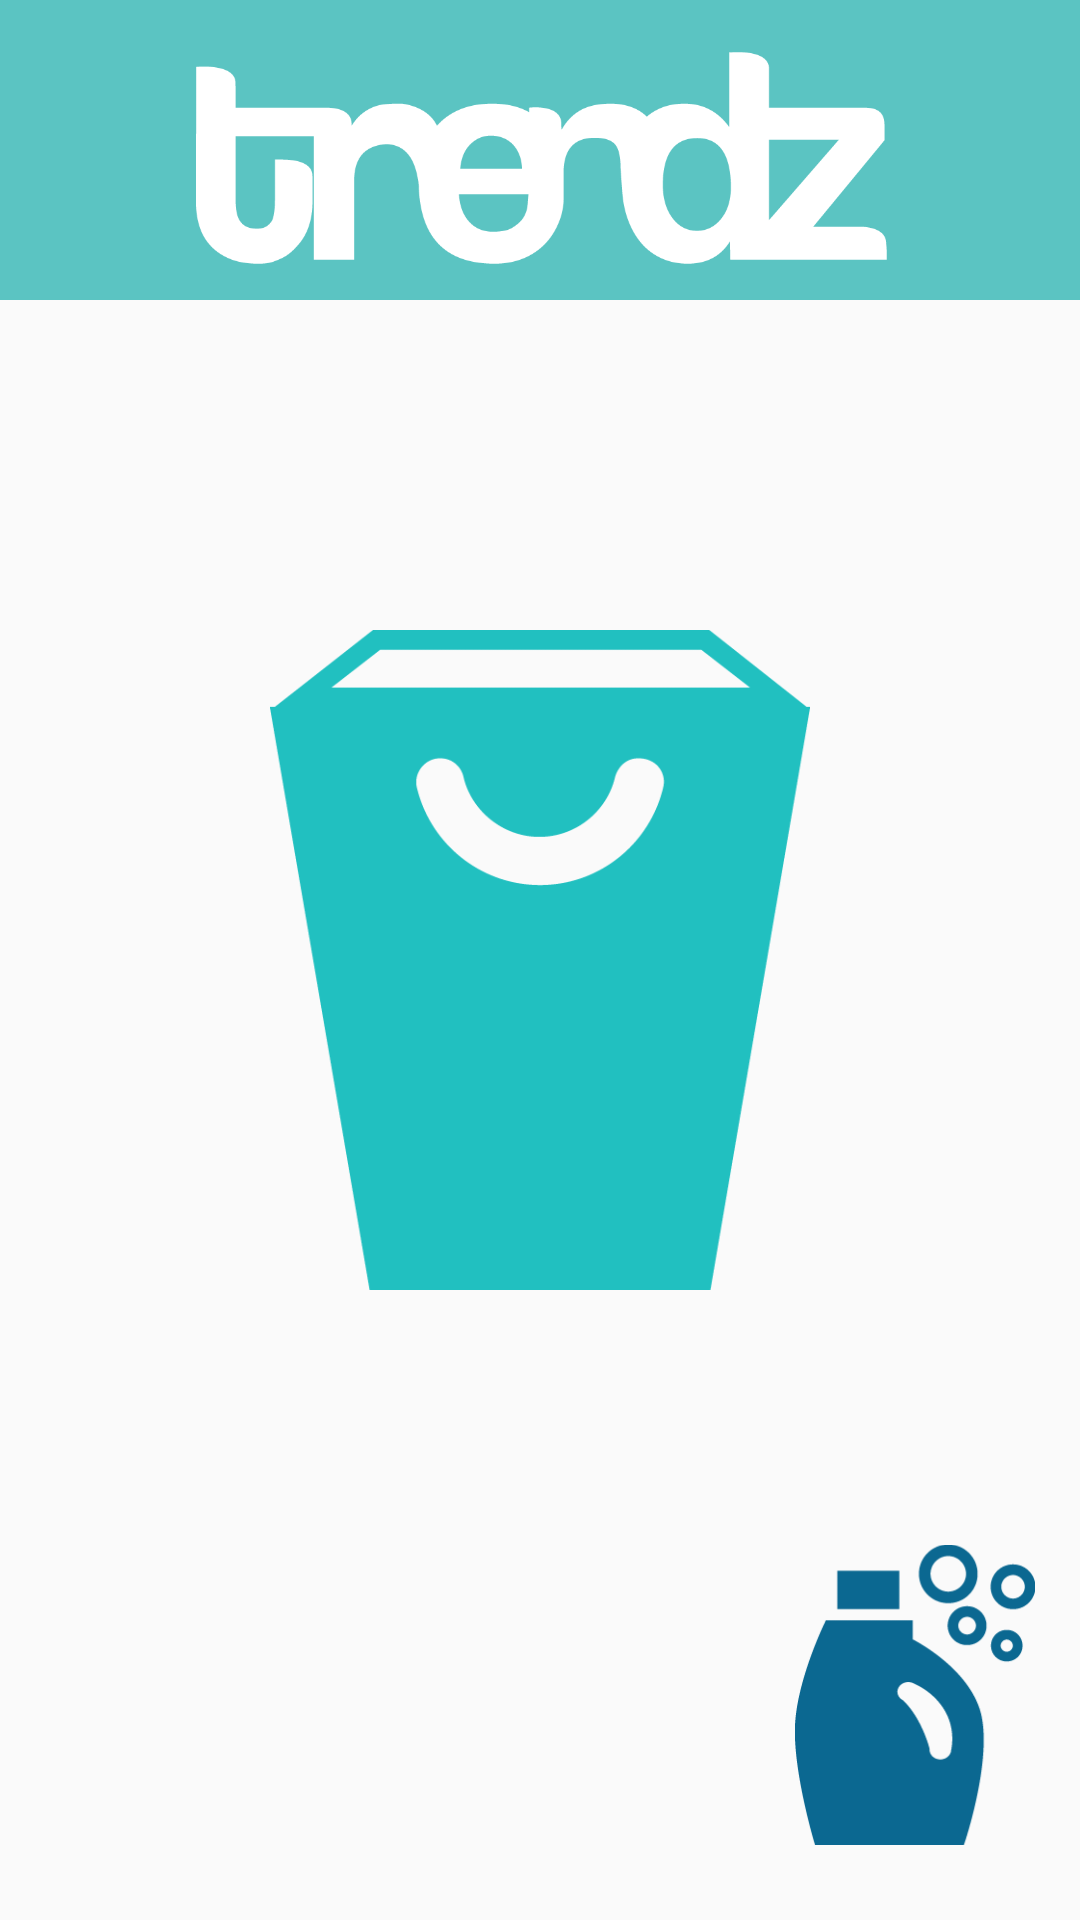

Locate icon controls on the screen. Image size 1080 × 1920, boxes as region(x1, y1, x2, y2).
clean: region(795, 1545, 1035, 1845)
